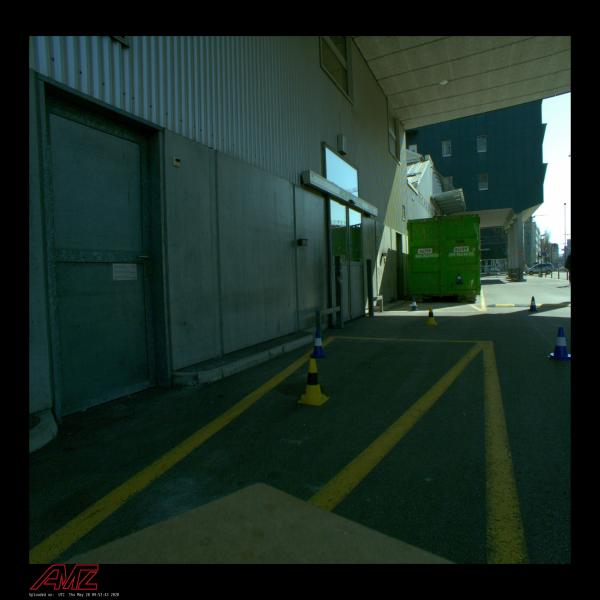blue_cone: (546, 327, 571, 361), (310, 330, 327, 359), (528, 297, 538, 311), (410, 298, 418, 311), (456, 273, 463, 284)
yellow_cone: (298, 359, 329, 406), (424, 306, 438, 326)
